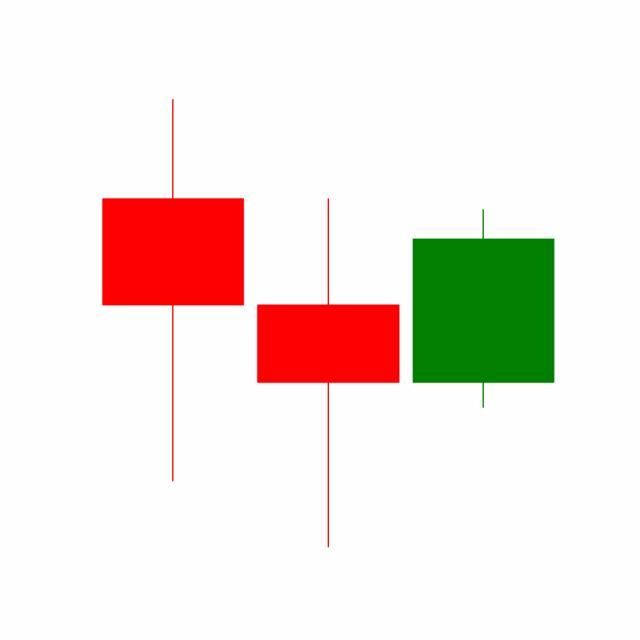Spinning Top: (249, 194, 406, 551)
